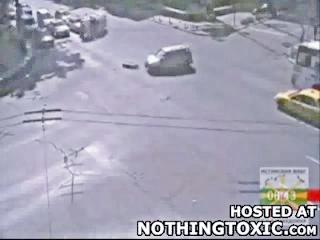Car: (274, 87, 320, 127), (145, 45, 193, 73), (78, 12, 108, 41), (16, 4, 37, 38), (48, 19, 70, 38), (65, 15, 84, 34), (36, 8, 52, 27), (37, 32, 54, 48), (6, 1, 17, 19), (55, 7, 70, 19)
Major Accident: (77, 11, 195, 76)
